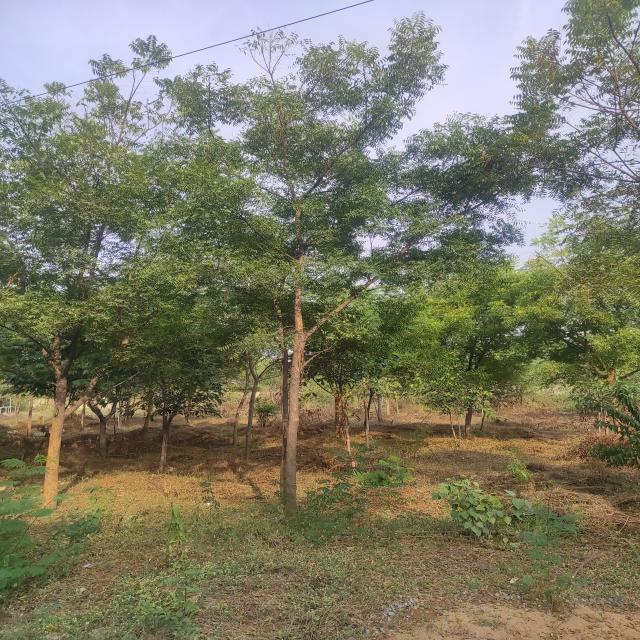Neem Tree: (226, 44, 438, 389), (508, 34, 627, 328)
